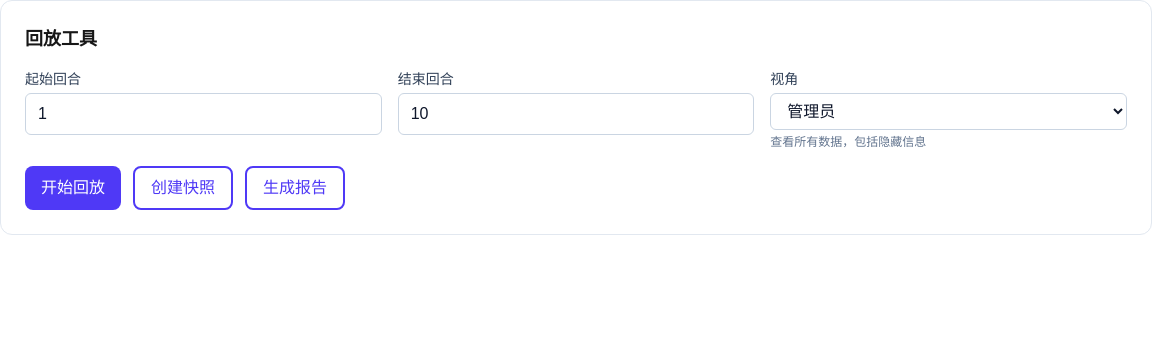
ReplayControls › disables buttons when loading
Click the button "开始回放": click(73, 188) [25, 166, 121, 210]
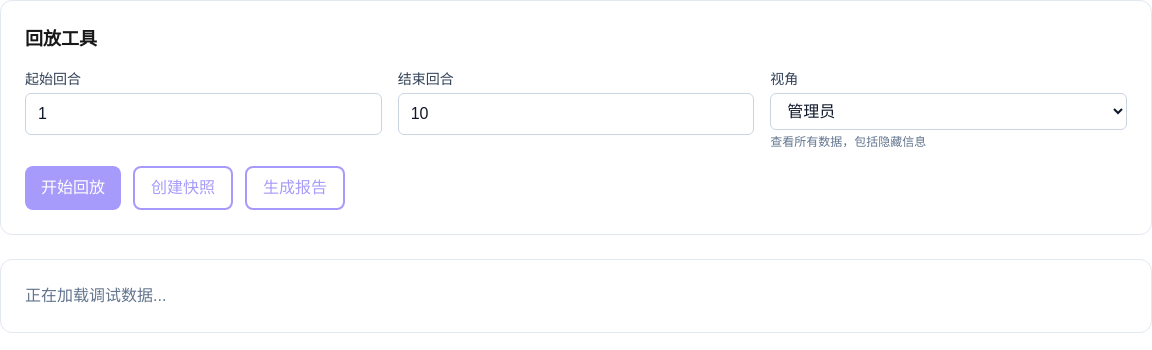
Now the button "开始回放" is disabled, box [25, 166, 121, 210]
